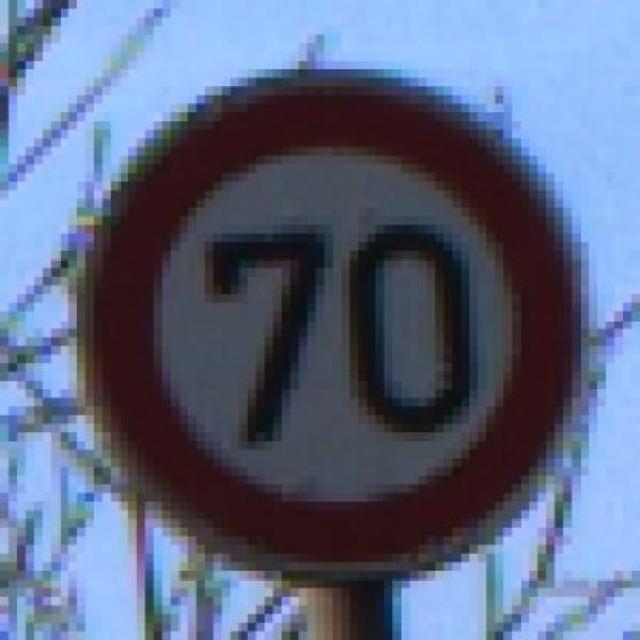forb_speed_over_70: (86, 77, 586, 566)
